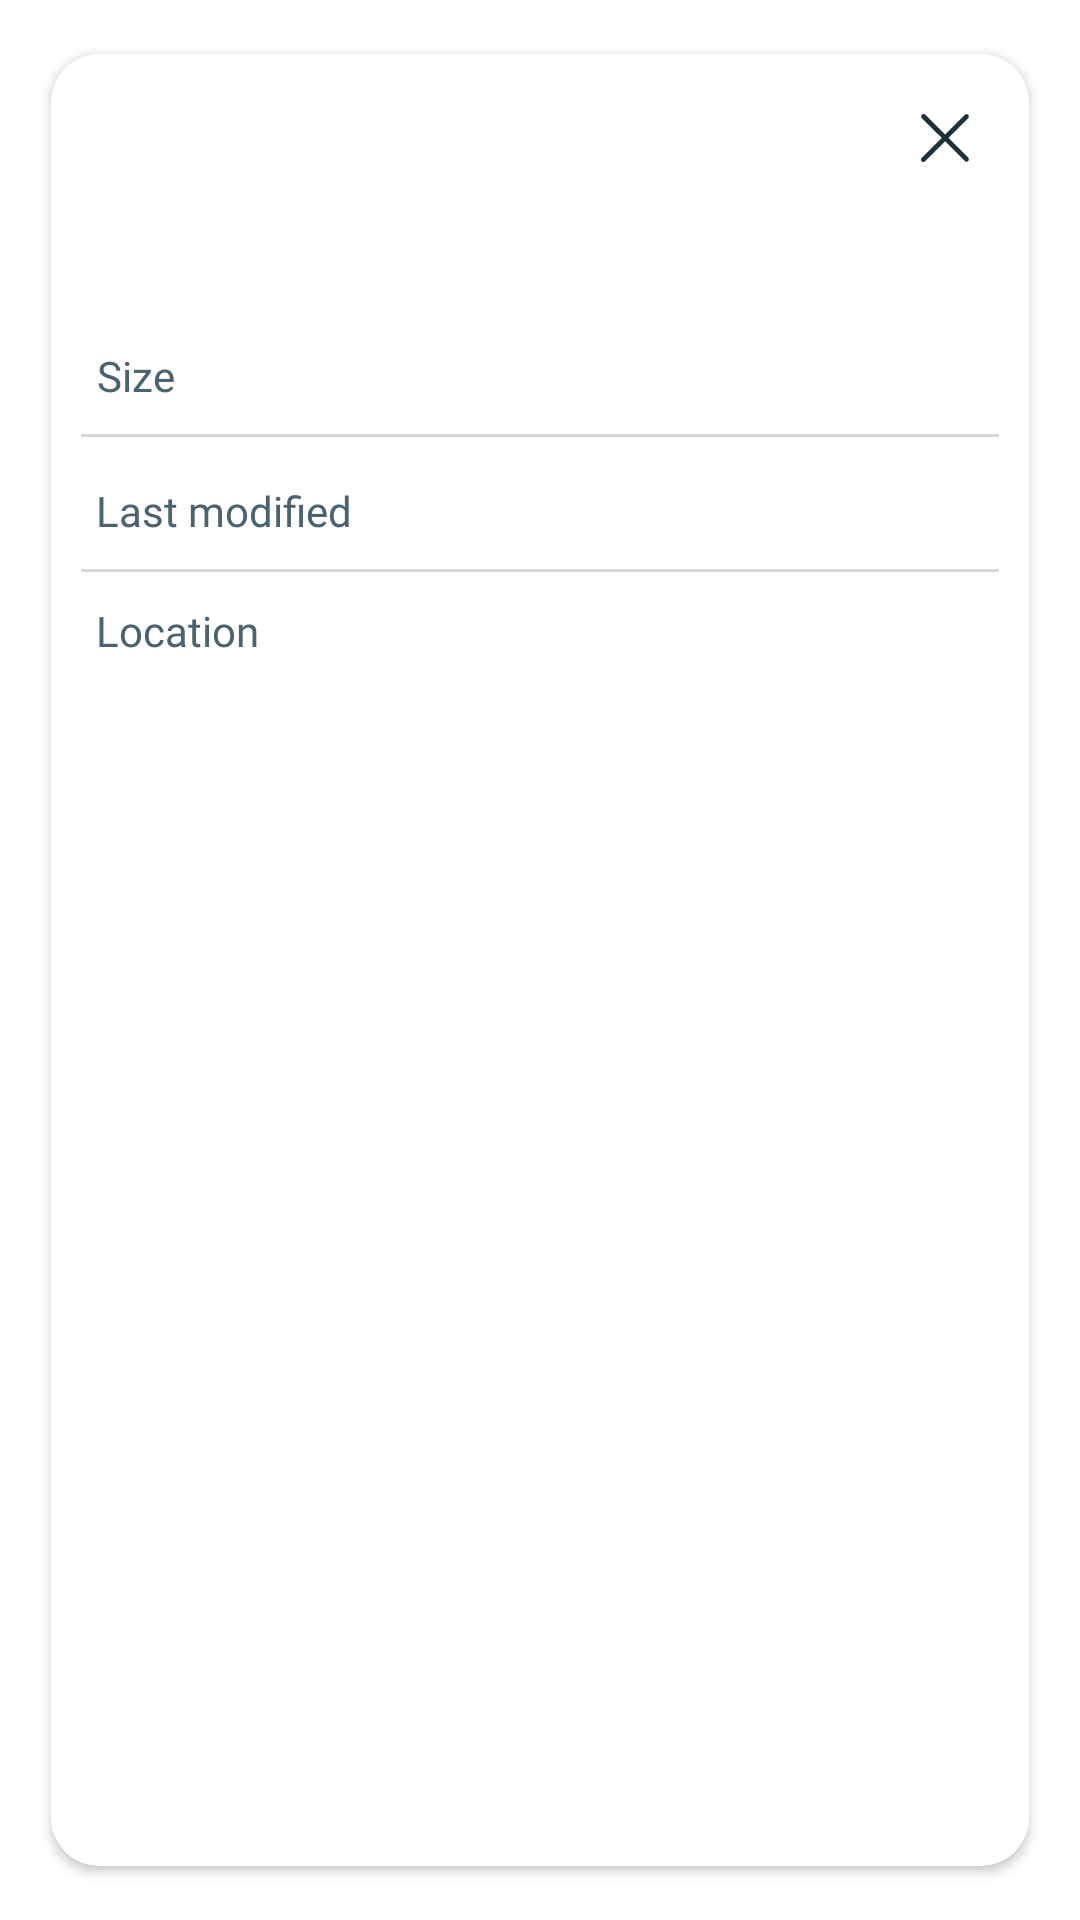

Icons on this 1080*1920 Android screen, each with the point to tap as (x,y):
close search: (945,138)
